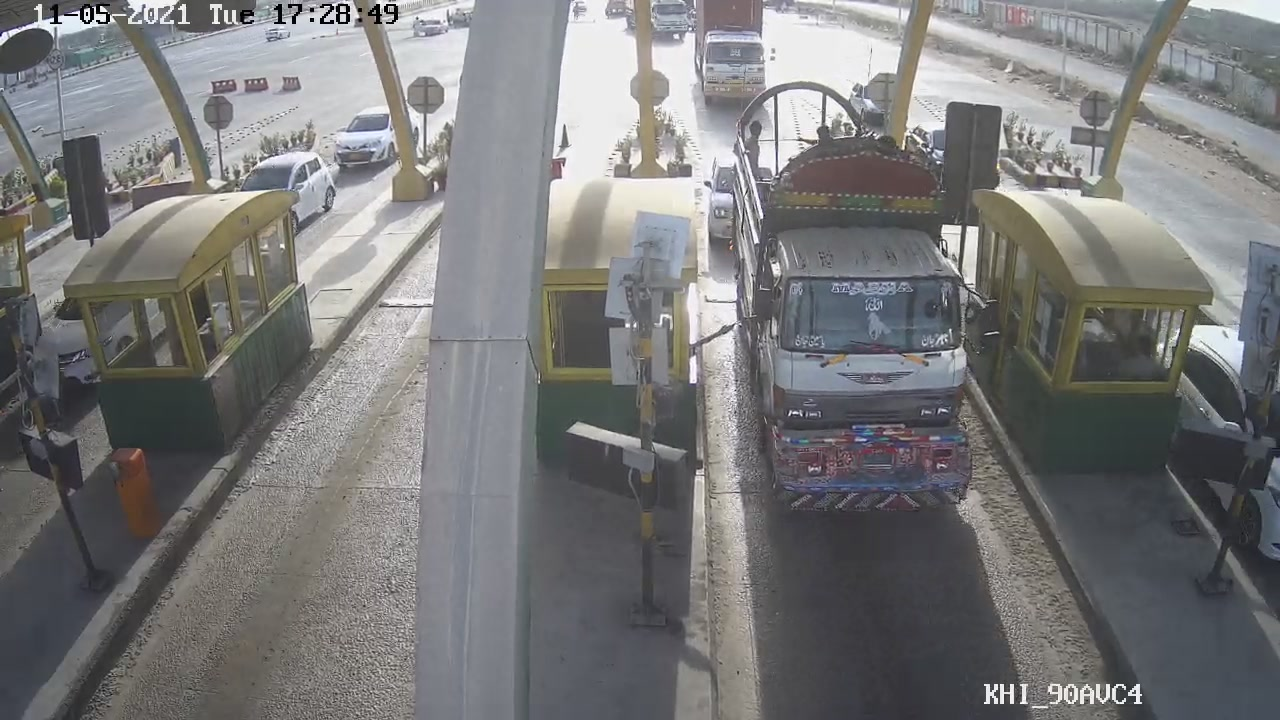F5: (720, 99, 983, 515)
